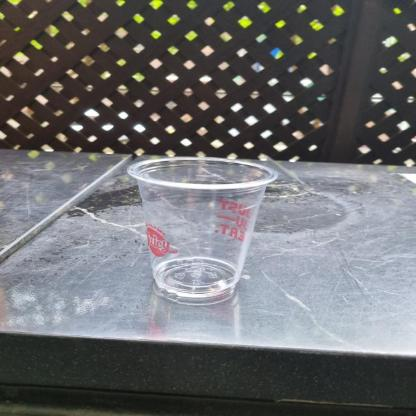Plastic Cup: (125, 154, 275, 307)
